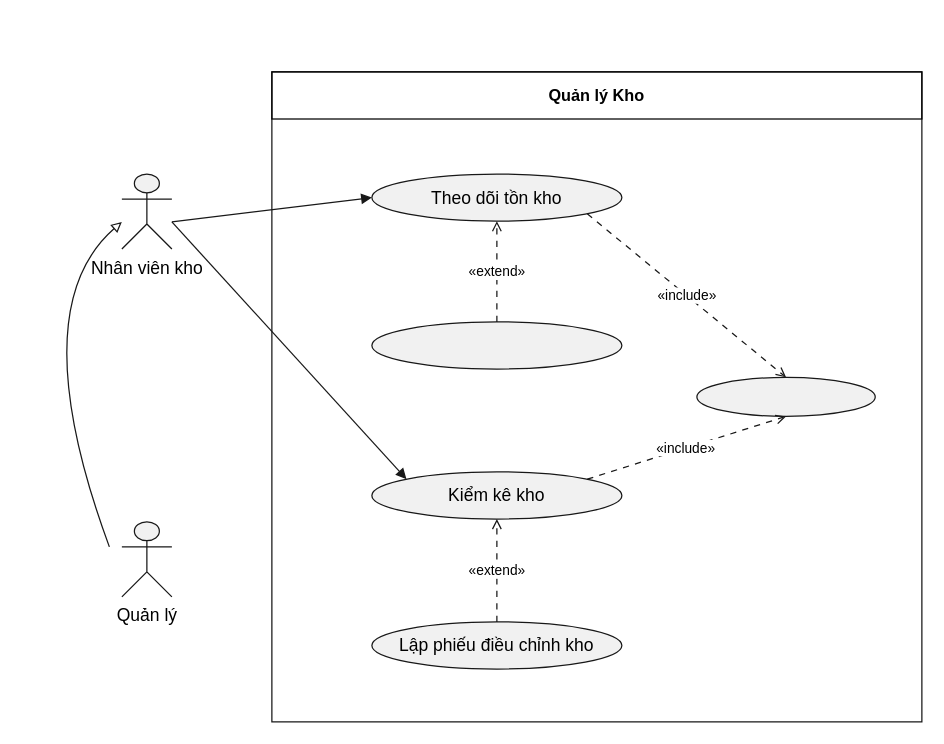
Image size: 944x744. Some labels were removed from this diagram. Each missing label, with the centre of its shape:
Cảnh báo tồn kho: point (496, 345)
Đăng nhập: point (785, 396)
